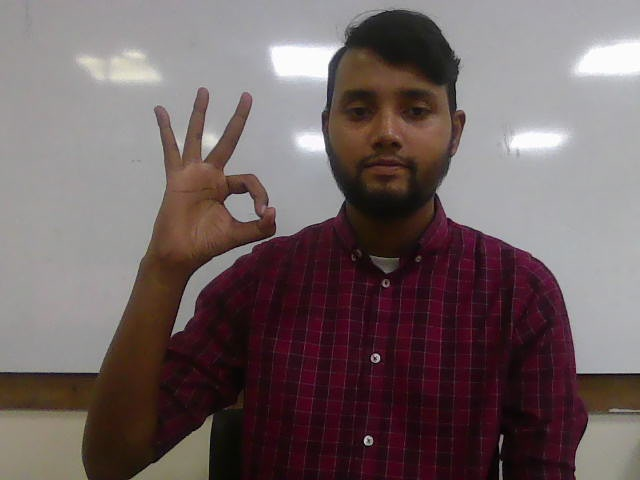Shundor: (144, 85, 279, 261)
